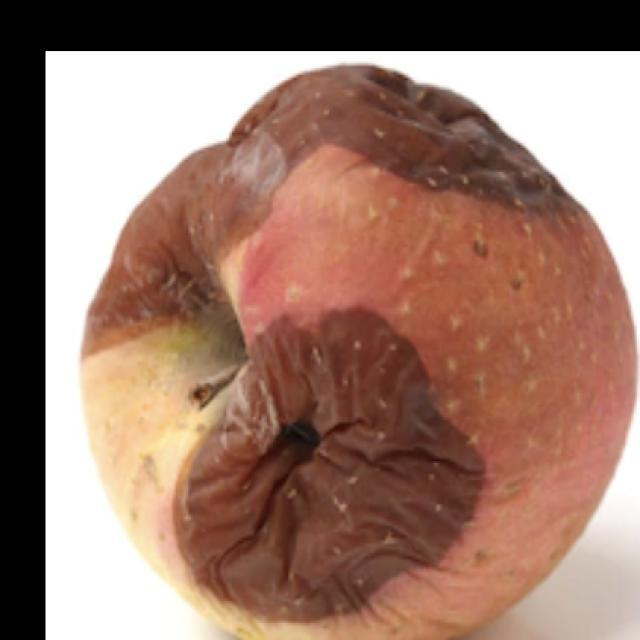Rotten: (95, 71, 640, 640)
